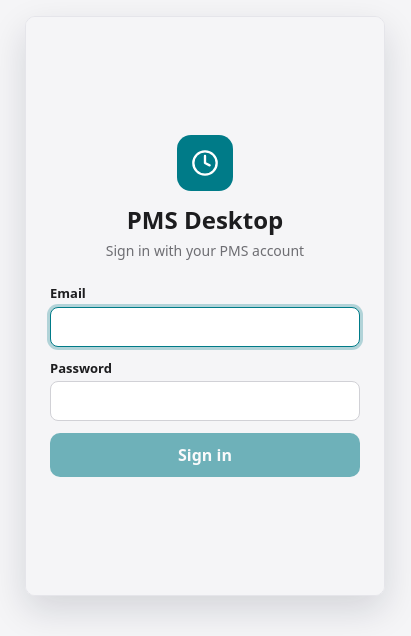
Test case: sign in › shows the error message from the backend and keeps the form
In the field labelled "Email": (205, 327) [50,307,360,347], type "anita.rao@acme.com"
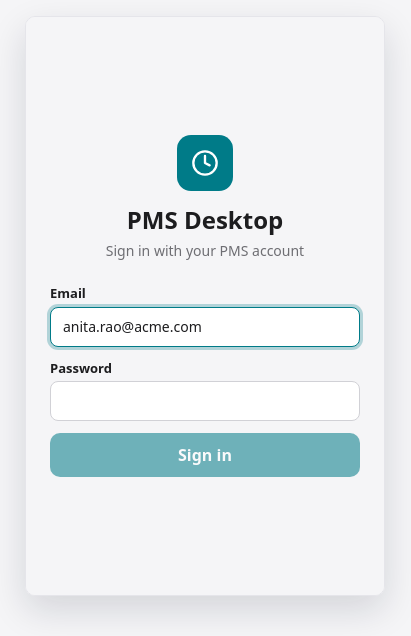
In the password field labelled "Password": (205, 401) [50,381,360,421], type "wrong"
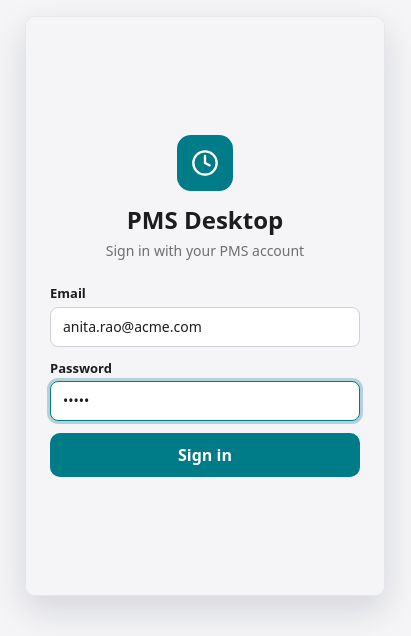
Click the button "Sign in": (205, 455) [50,433,360,477]
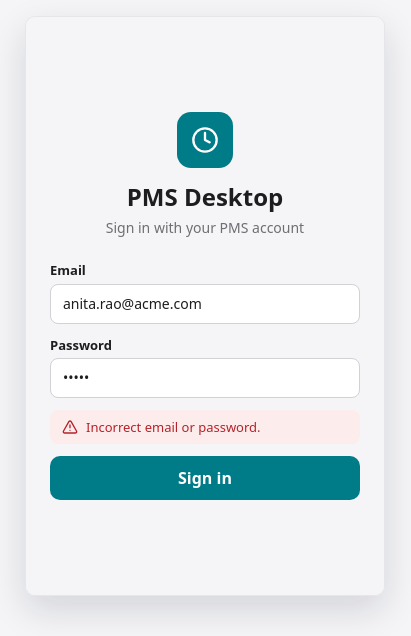
Now the button "Sign in" is enabled, box [50,456,360,500]
Now the message reads "Incorrect email or password.", box [86,418,261,436]
